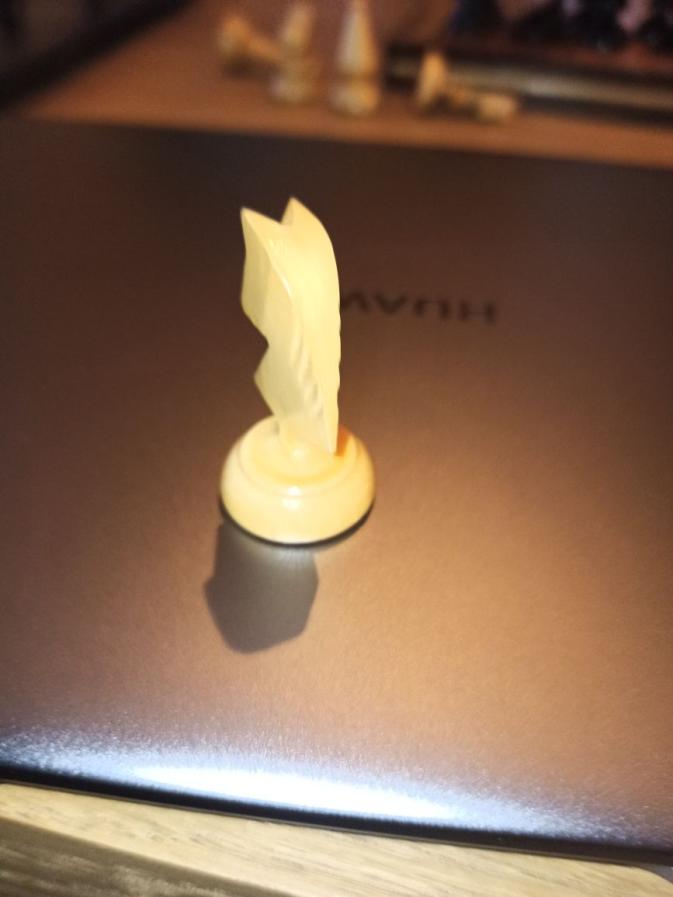wknight: (220, 194, 380, 548)
